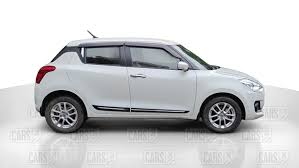Swift: (31, 29, 267, 133)
